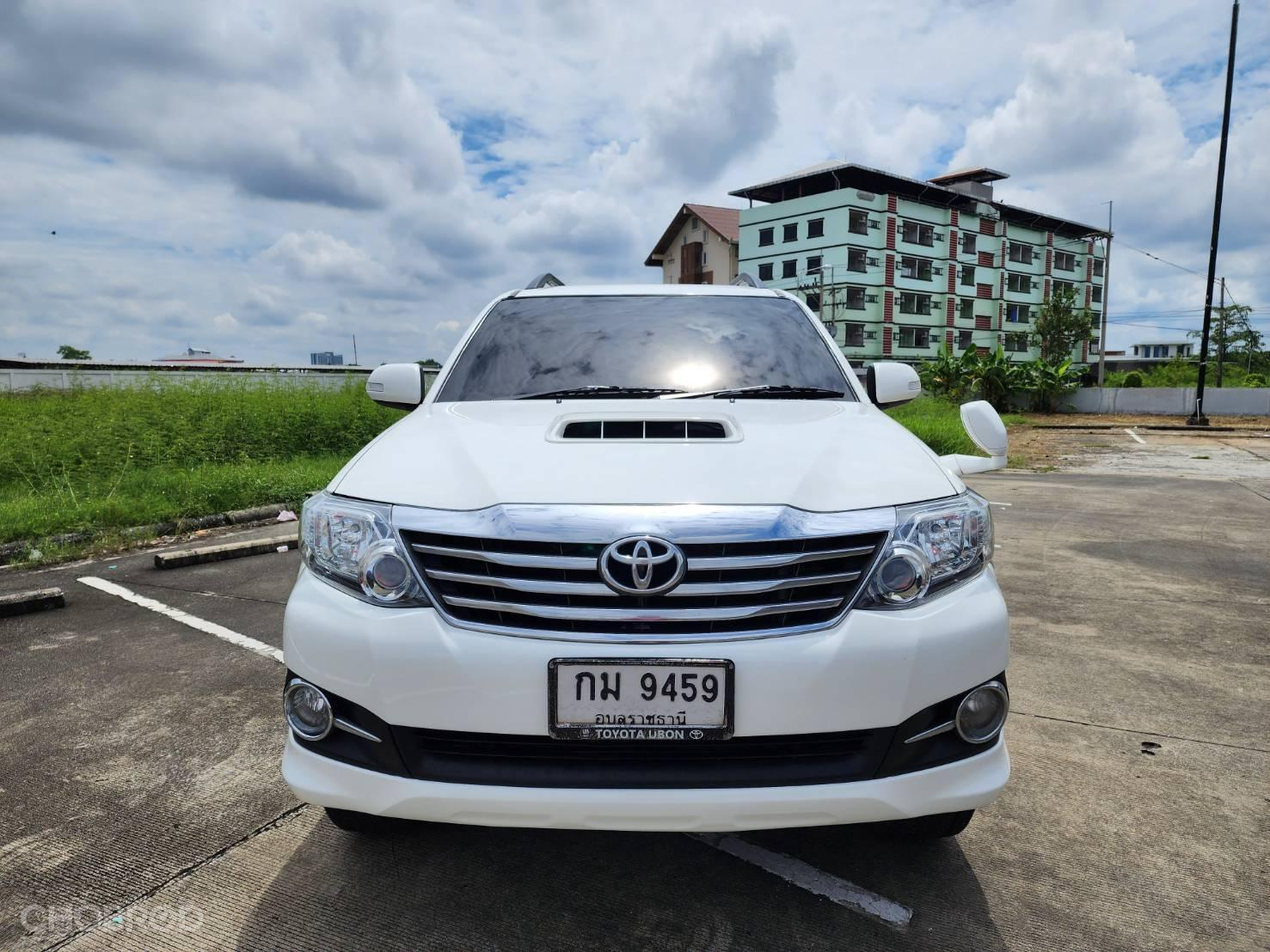license-plate: (544, 654, 737, 746)
